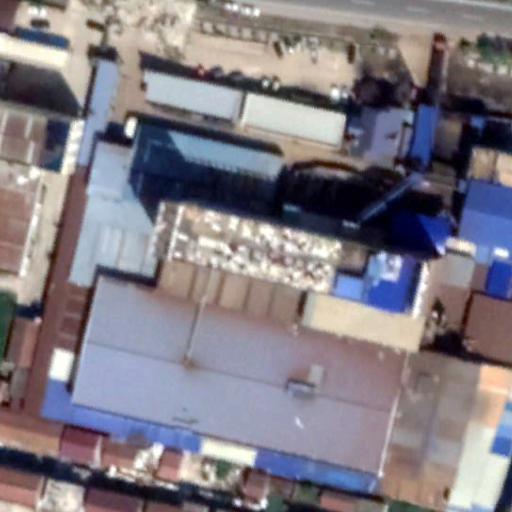msw: (176, 211, 341, 295)
